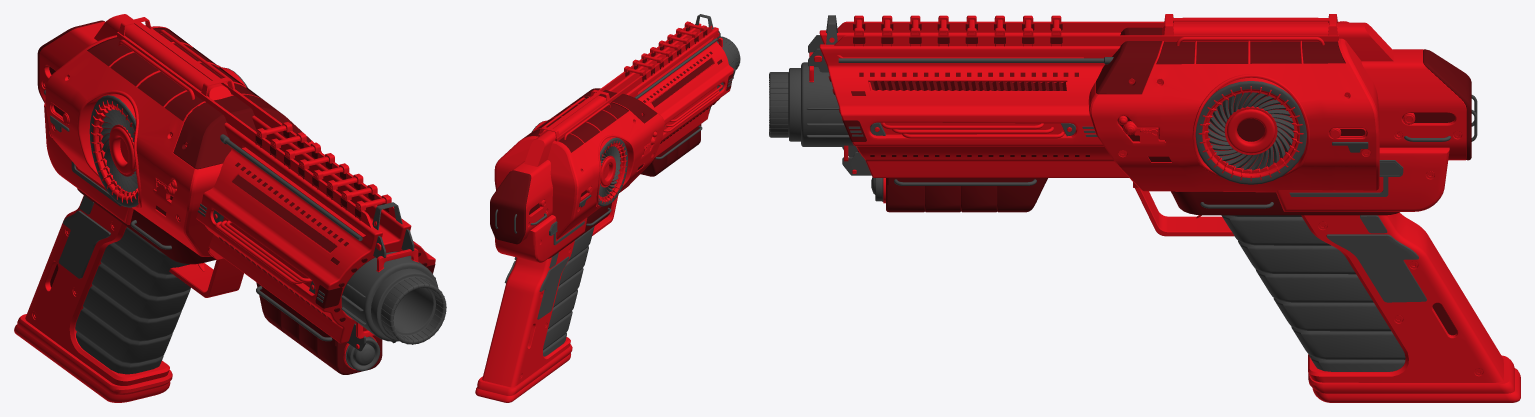
Rendered from Pistol.fbx.
3 views of the same model, side by side, from view 1: azimuth 30°, elevation 25°; view 2: azimuth 150°, elevation 25°; view 3: azimuth 270°, elevation 25° (orthographic). The views are drawn at different scales.
Visible parts, largest first — view 1: Gun; view 2: Gun; view 3: Gun.
Boxes of the visible parts, x1,y1,x2,y2 form: Gun: [14, 14, 446, 402]; Gun: [475, 14, 740, 402]; Gun: [769, 14, 1520, 402].
Bounding box in the file's own units: 56.82 × 144 × 265.
